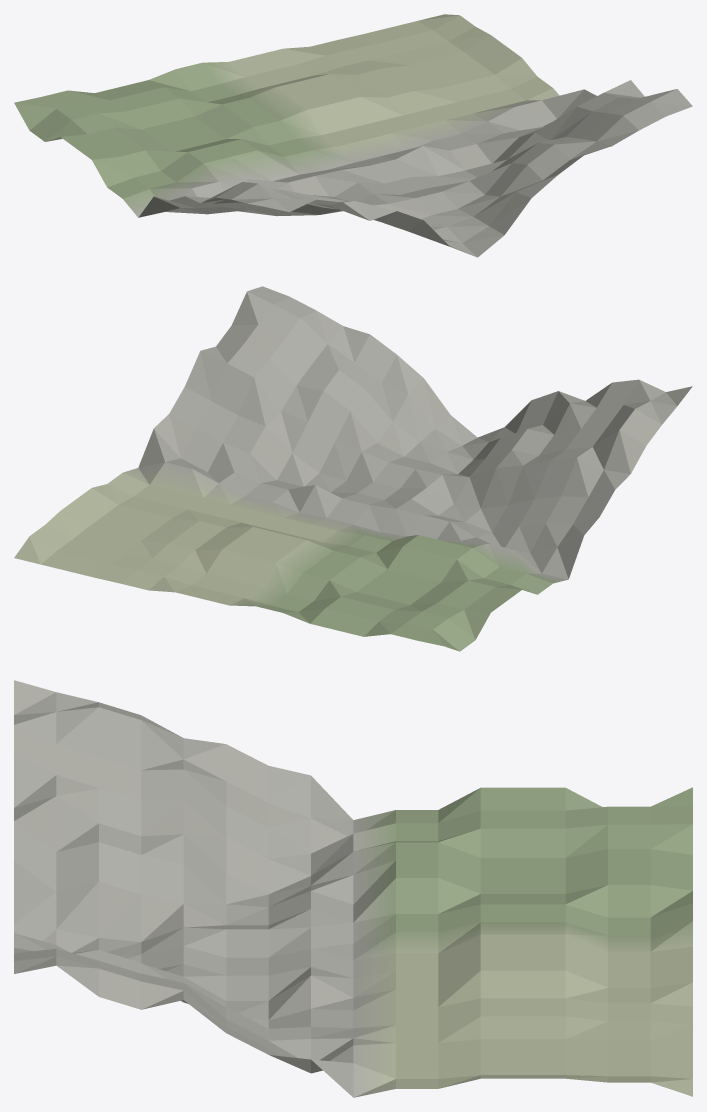
3 renders of one model, top to bottom at view 1: azimuth 30°, elevation 25°; view 2: azimuth 150°, elevation 25°; view 3: azimuth 270°, elevation 25°, orthographic. The views are drawn at different scales.
Size of the model in its own units: 32 by 7.51 by 32.
